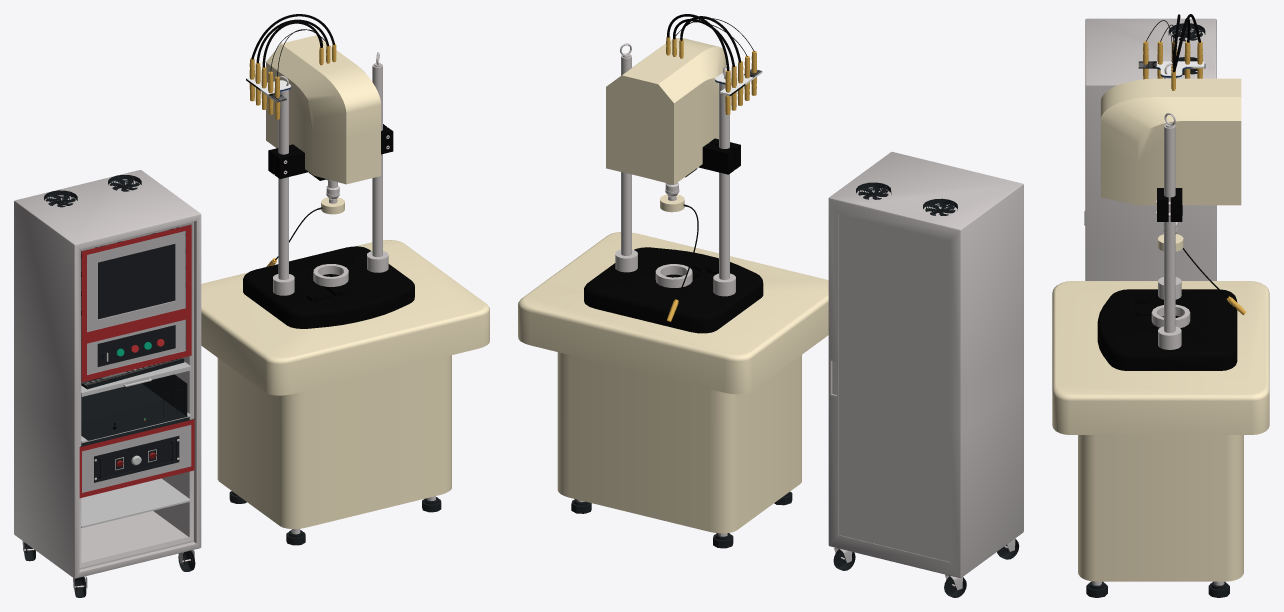
Rendered from dynamicfatique.obj.
3 views of the same model, side by side, from view 1: azimuth 30°, elevation 25°; view 2: azimuth 150°, elevation 25°; view 3: azimuth 270°, elevation 25° (orthographic). The views are drawn at different scales.
Parts seen in each view (by area): view 1: Cube.006_Cube.008, Cube.003_Cube.005, Cube_Cube.001, Plane.005, Cube.007_Cube.009, Cube.004_Cube.006, Circle.009_Circle.019, Cube.001_Cube.002, Cube.005_Cube.007, Circle.020_Circle.050, Cube.002_Cube.003, NurbsPath.004_NurbsPath.009 (+4 smaller); view 2: Cube.003_Cube.005, Cube.006_Cube.008, Plane.005, Cube.007_Cube.009, Circle.009_Circle.019, Circle.020_Circle.050, NurbsPath.004_NurbsPath.009, Circle.007_Circle.014, Circle.005_Circle.016, Circle.027_Circle.056; view 3: Cube.006_Cube.008, Cube.003_Cube.005, Plane.005, Cube.007_Cube.009, Circle.009_Circle.019, Circle.020_Circle.050, NurbsPath.004_NurbsPath.009, Circle.027_Circle.056, Cube.009_Cube.019, Circle.005_Circle.016, Circle.007_Circle.014.
Part boxes in pixels (left/top/right/bottom): Cube.006_Cube.008: left=201, top=240, right=489, bottom=528; Cube.003_Cube.005: left=14, top=170, right=201, bottom=578; Cube_Cube.001: left=81, top=224, right=191, bottom=382; Plane.005: left=266, top=35, right=380, bottom=184; Cube.007_Cube.009: left=243, top=246, right=414, bottom=328; Cube.004_Cube.006: left=79, top=417, right=194, bottom=498; Circle.009_Circle.019: left=268, top=52, right=393, bottom=295; Cube.001_Cube.002: left=81, top=374, right=187, bottom=440; Cube.005_Cube.007: left=81, top=478, right=191, bottom=527; Circle.020_Circle.050: left=249, top=44, right=336, bottom=119; Cube.002_Cube.003: left=81, top=361, right=191, bottom=442; NurbsPath.004_NurbsPath.009: left=251, top=14, right=334, bottom=77; Cube.003_Cube.005: left=828, top=152, right=1023, bottom=577; Cube.006_Cube.008: left=518, top=232, right=828, bottom=533; Plane.005: left=606, top=38, right=726, bottom=184; Cube.007_Cube.009: left=584, top=247, right=763, bottom=333; Circle.009_Circle.019: left=615, top=43, right=740, bottom=296; Circle.020_Circle.050: left=666, top=36, right=756, bottom=114; NurbsPath.004_NurbsPath.009: left=667, top=14, right=754, bottom=71; Circle.007_Circle.014: left=856, top=182, right=957, bottom=215; Circle.005_Circle.016: left=655, top=264, right=692, bottom=287; Circle.027_Circle.056: left=571, top=491, right=792, bottom=548; Cube.006_Cube.008: left=1052, top=281, right=1269, bottom=581; Cube.003_Cube.005: left=1085, top=18, right=1216, bottom=280; Plane.005: left=1100, top=78, right=1241, bottom=205; Cube.007_Cube.009: left=1097, top=289, right=1237, bottom=370; Circle.009_Circle.019: left=1156, top=63, right=1182, bottom=349; Circle.020_Circle.050: left=1143, top=41, right=1202, bottom=90; NurbsPath.004_NurbsPath.009: left=1145, top=14, right=1200, bottom=72; Circle.027_Circle.056: left=1086, top=581, right=1229, bottom=597; Cube.009_Cube.019: left=1138, top=61, right=1204, bottom=77; Circle.005_Circle.016: left=1151, top=304, right=1190, bottom=328; Circle.007_Circle.014: left=1168, top=23, right=1205, bottom=74.
Size of the model in its own units: 12.52 by 14.37 by 5.36.
